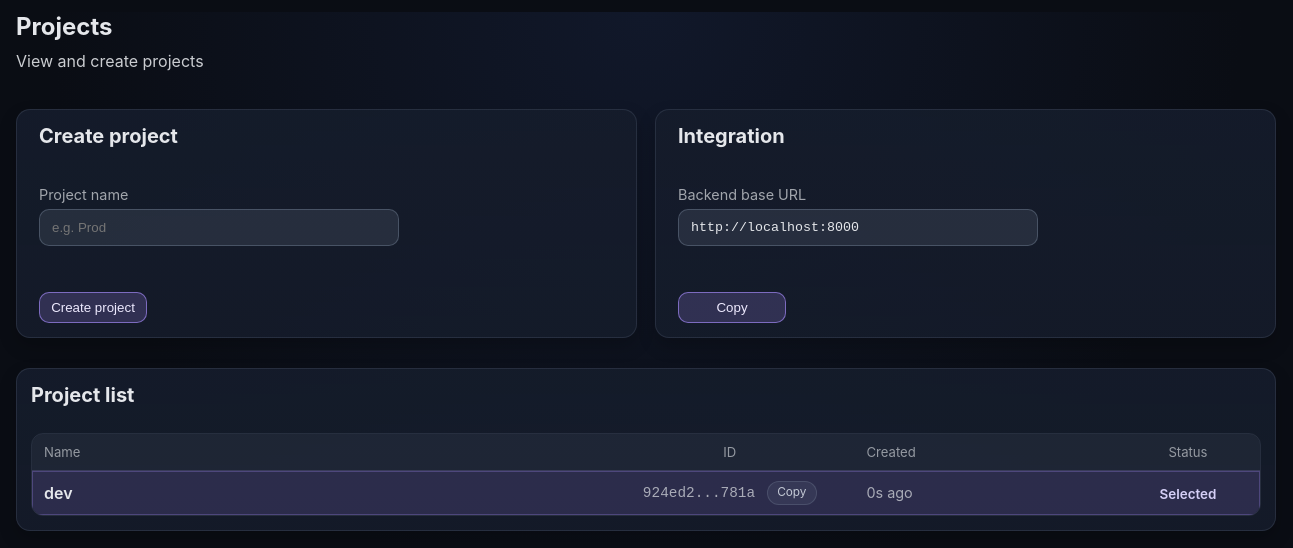
Projects page › validates project name before creating
The width and height of the screenshot is (1293, 548).
Click the button "Create project": click(93, 308) [39,292,147,323]
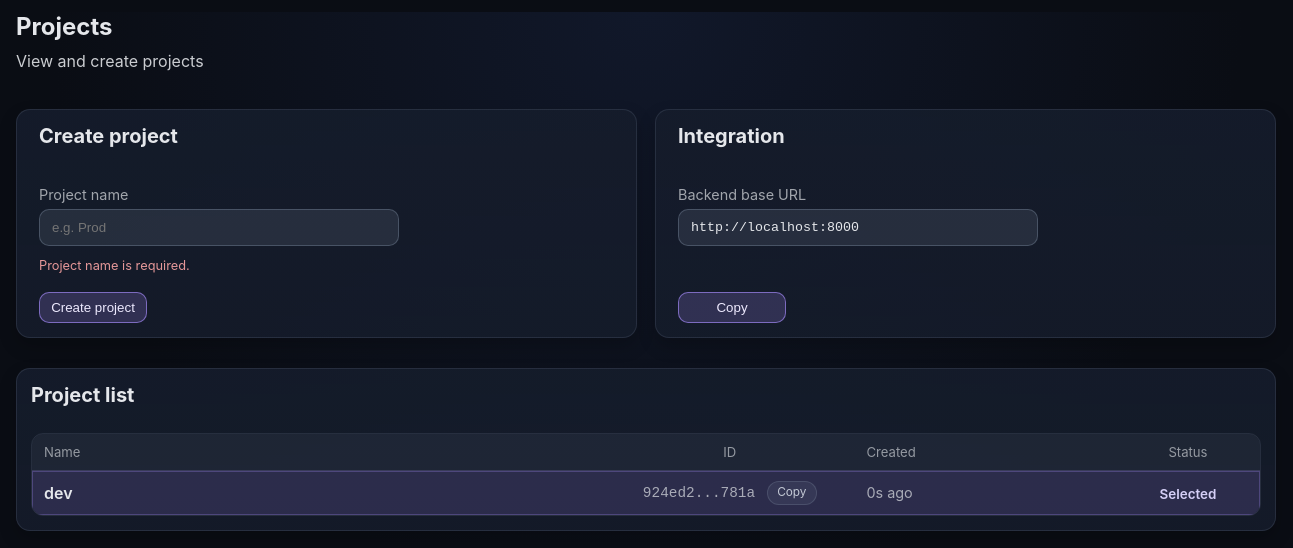
expect the text "Project name is required." is shown: met, box [39,258,190,273]
